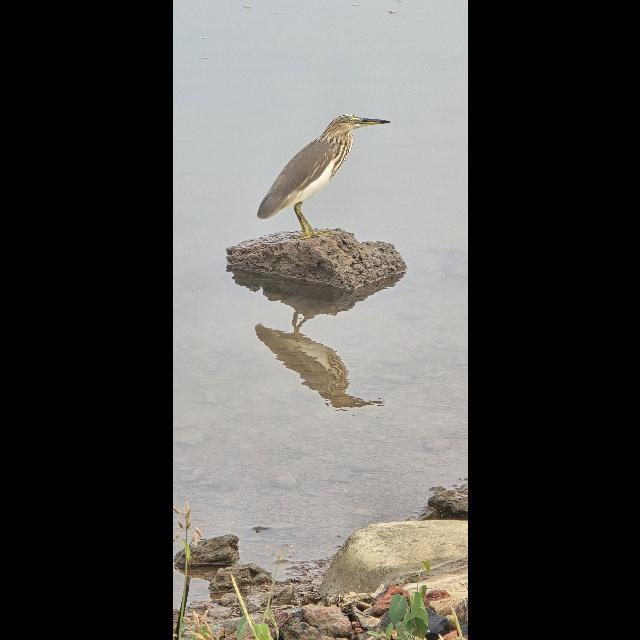heron: (256, 113, 404, 231)
